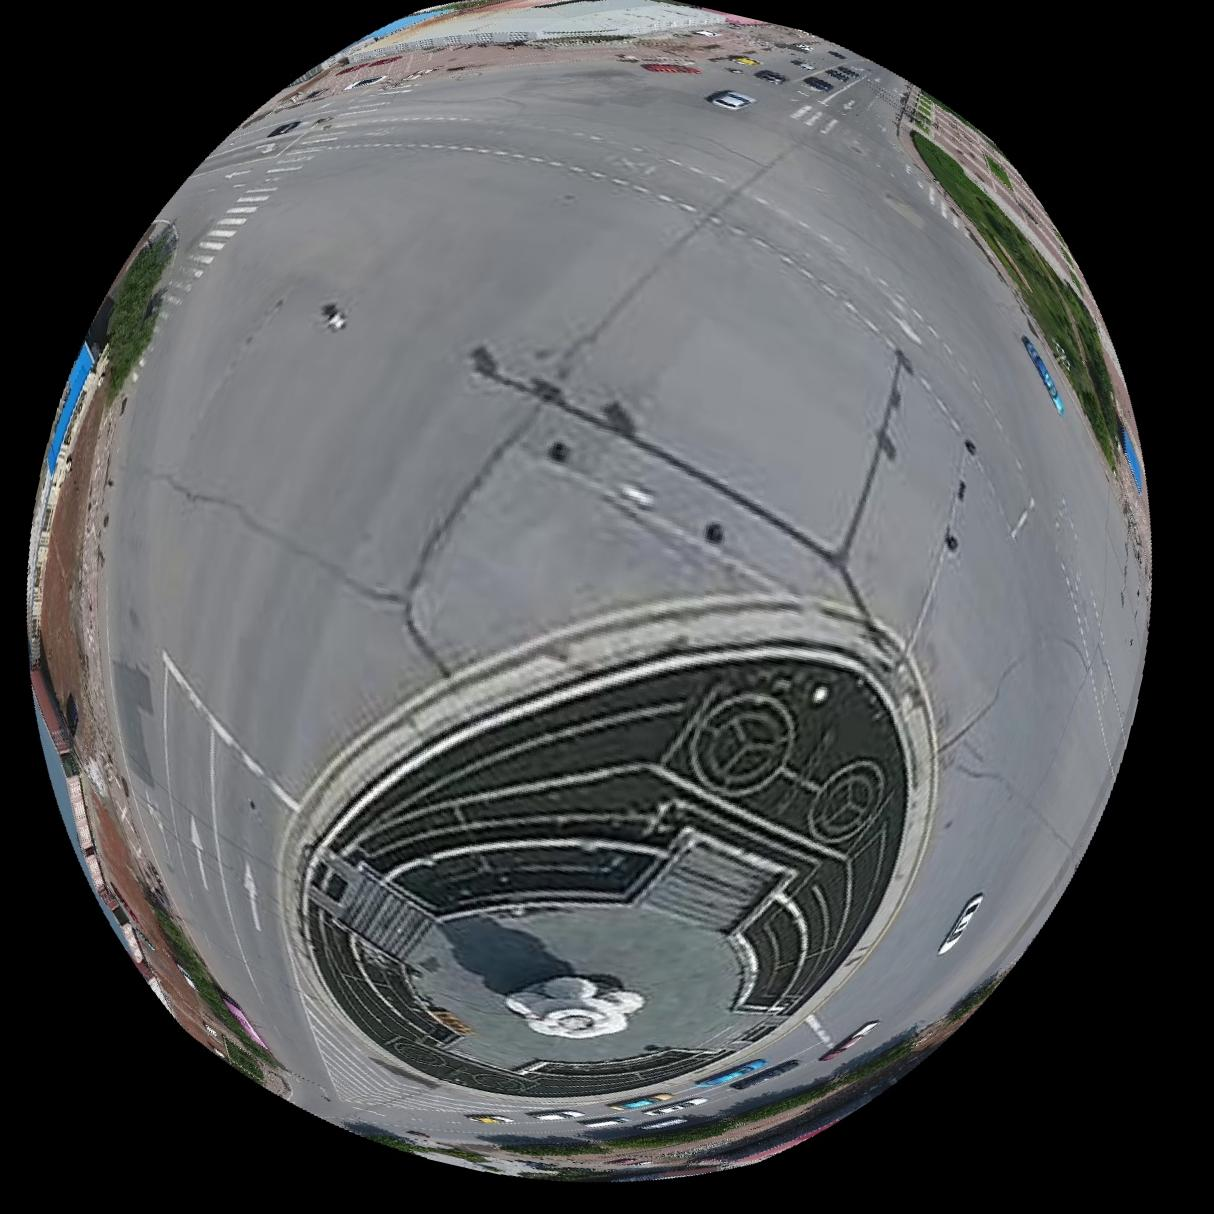cars: (1024, 334, 1066, 415), (938, 894, 985, 956), (820, 1022, 879, 1062), (730, 1061, 799, 1092), (695, 1061, 767, 1089), (706, 87, 754, 109)
trees: (913, 130, 1123, 459)
